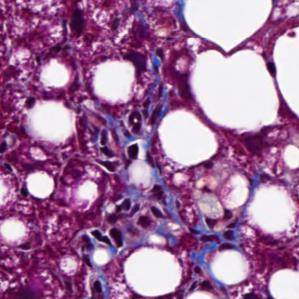inflammation: (112, 191, 167, 234), (72, 227, 126, 251), (121, 137, 152, 160)
